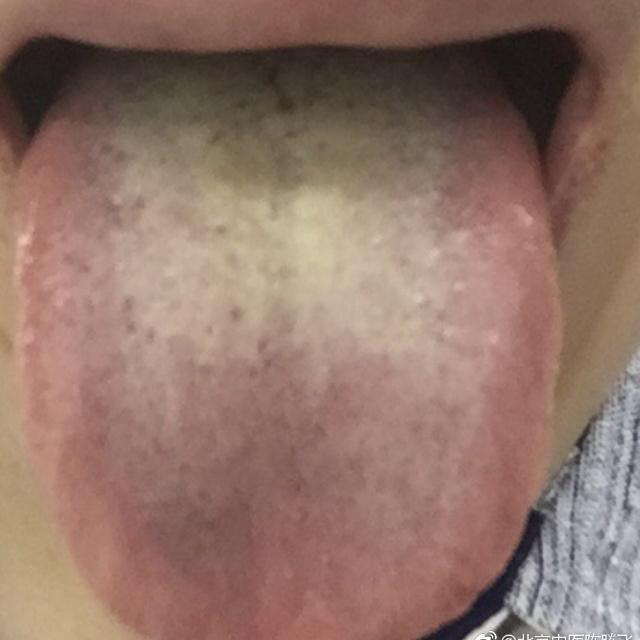huangtaishe: (11, 55, 561, 640)
